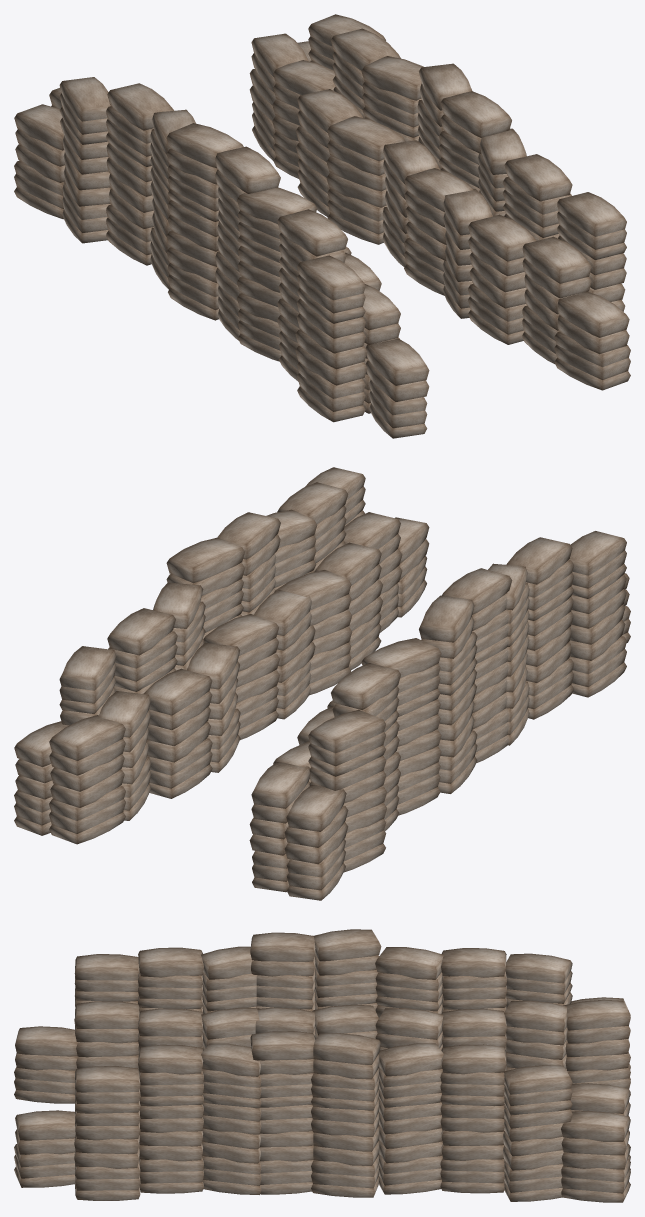
Rendered from trin_01.dae.
3 renders of one model, top to bottom at view 1: azimuth 30°, elevation 25°; view 2: azimuth 150°, elevation 25°; view 3: azimuth 270°, elevation 25°, orthographic. The views are drawn at different scales.
Visible parts, largest first — view 1: trin_01; view 2: trin_01; view 3: trin_01.
Boxes of the visible parts, left/top/right/bottom form: trin_01: left=14, top=14, right=630, bottom=438; trin_01: left=14, top=467, right=630, bottom=900; trin_01: left=14, top=929, right=630, bottom=1202.
Size of the model in its own units: 9.99 by 19.56 by 5.22.
